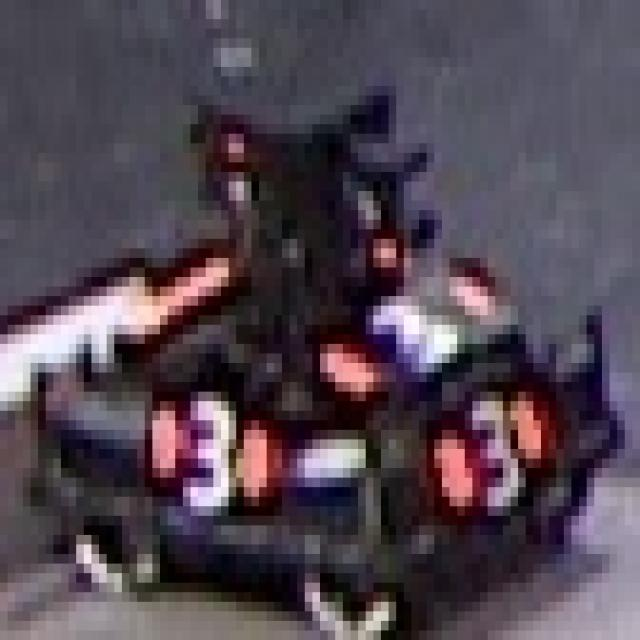R3: (320, 258, 503, 382), (114, 373, 282, 506), (434, 382, 549, 506)
